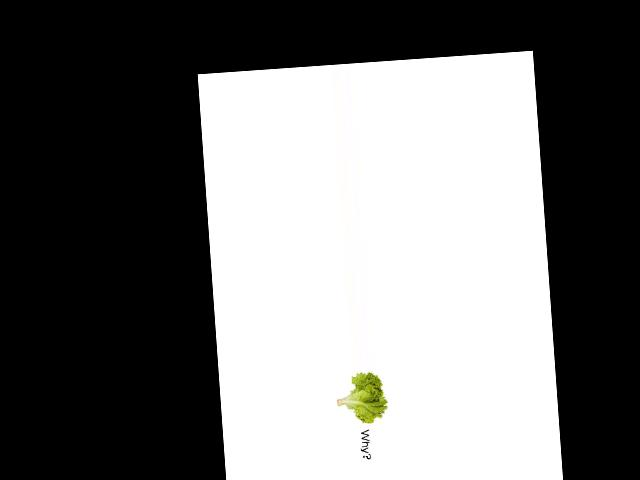lettuce: (334, 369, 389, 430)
